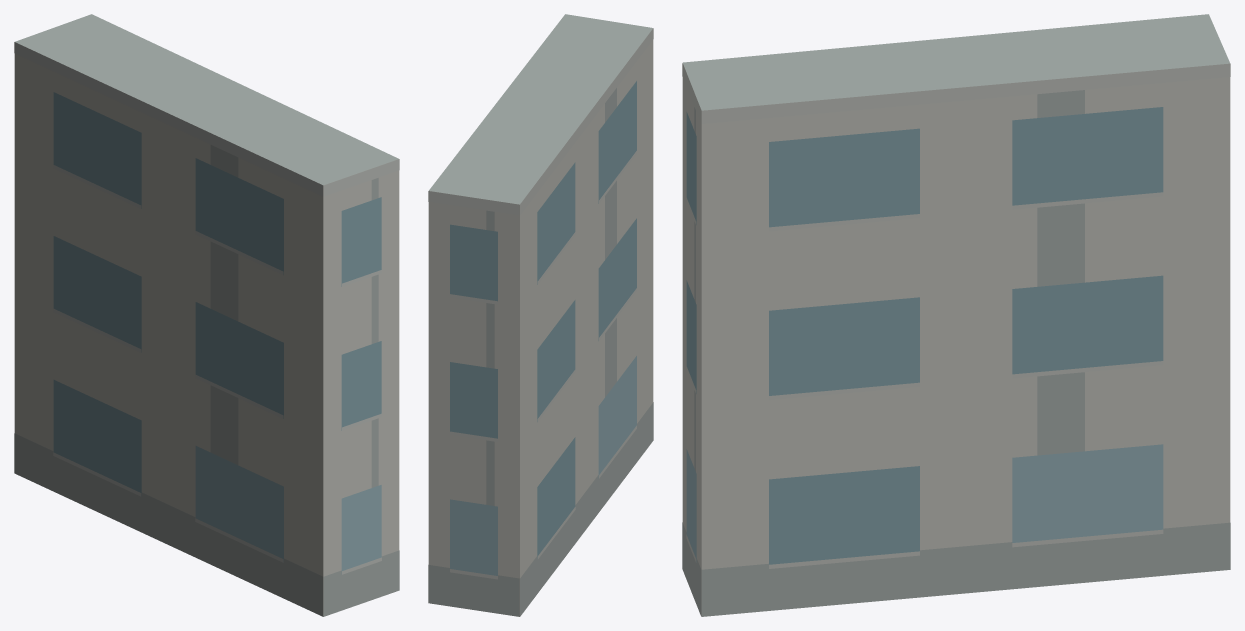
Rendered from survey-upis-32808713.glb.
3 renders of one model, left to right at view 1: azimuth 30°, elevation 25°; view 2: azimuth 150°, elevation 25°; view 3: azimuth 270°, elevation 25°, orthographic. The views are drawn at different scales.
Visible parts, largest first — view 1: survey-upis-32808713.tmp; view 2: survey-upis-32808713.tmp; view 3: survey-upis-32808713.tmp.
Part boxes in pixels (x1,y1,x2,y2): survey-upis-32808713.tmp: (14,14,399,616); survey-upis-32808713.tmp: (428,14,653,616); survey-upis-32808713.tmp: (682,14,1230,616).
Size of the model in its own units: 3.76 by 9.15 by 8.99.
